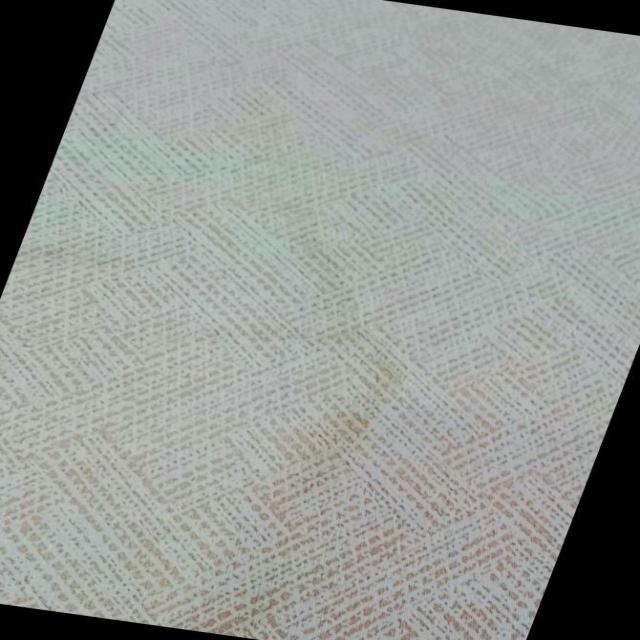stain: (217, 312, 433, 531)
